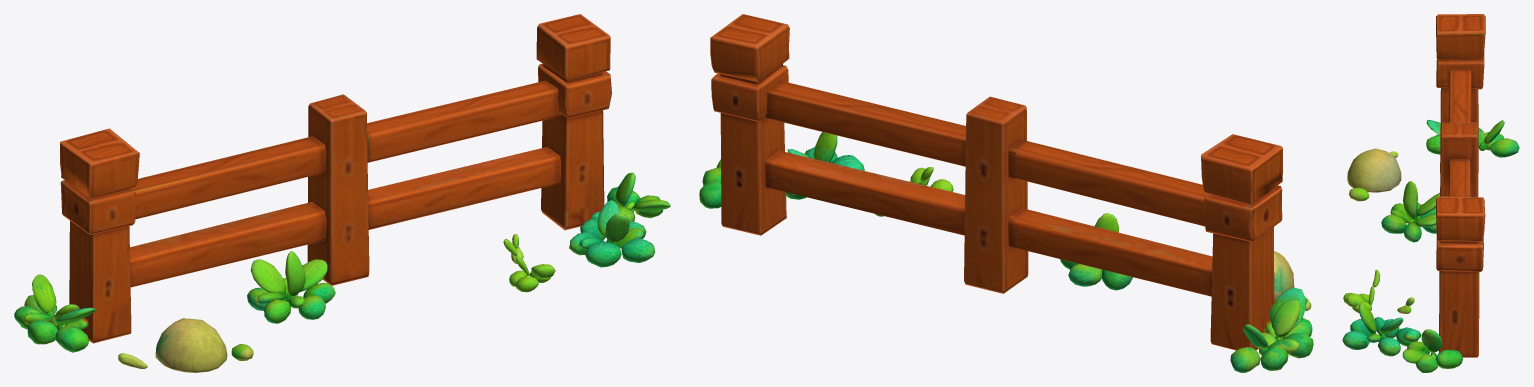
Rendered from r3c6_wooden_fence.glb.
The picture shows the model from 3 angles, left to right: view 1: azimuth 30°, elevation 25°; view 2: azimuth 150°, elevation 25°; view 3: azimuth 270°, elevation 25°; orthographic projection. The views are drawn at different scales.
Size of the model in its own units: 1 by 0.2959 by 0.3223.
1 material, 1 textured.
